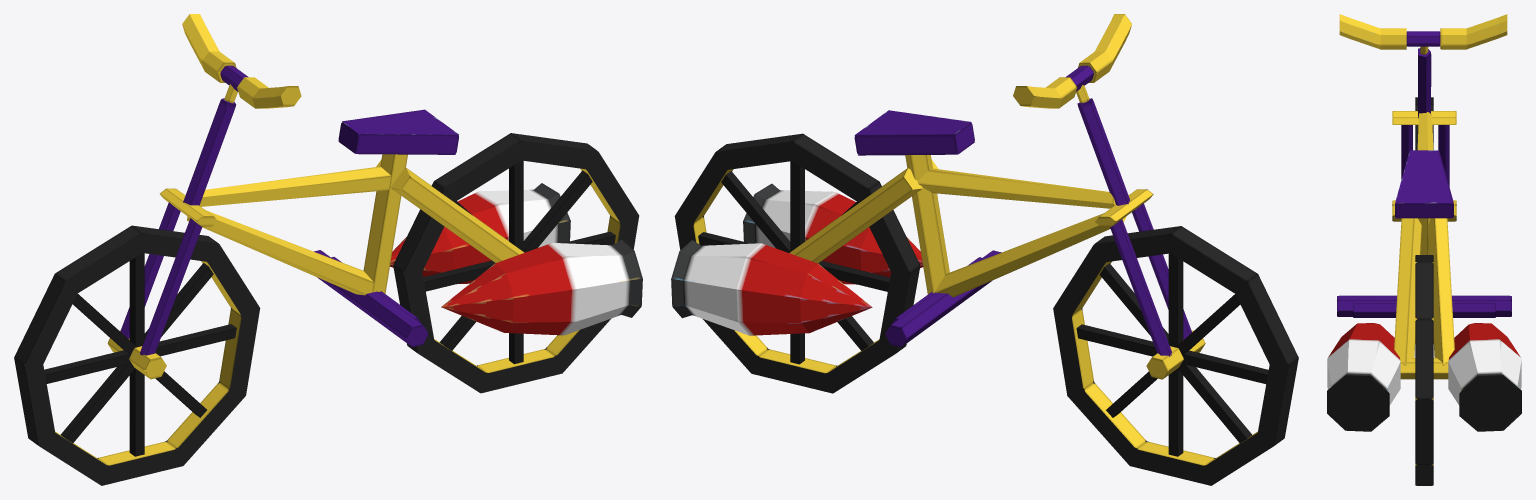
Rendered from cycol(1).fbx.
The picture shows the model from 3 angles, left to right: view 1: azimuth 30°, elevation 25°; view 2: azimuth 150°, elevation 25°; view 3: azimuth 270°, elevation 25°; orthographic projection. The views are drawn at different scales.
Parts seen in each view (by area): view 1: cylinder_2, cylinder, rocket2, group, front wheel, rocket, cylinder_6, cylinder_7, cylinder_4, cylinder_12, cylinder_5, cylinder_15 (+5 smaller); view 2: cylinder_2, cylinder, rocket, group, front wheel, rocket2, cylinder_6, cylinder_7, cylinder_5_1, cylinder_12, cylinder_5, cylinder_15 (+5 smaller); view 3: rocket, rocket2, cylinder, cylinder_12, group, cylinder_4, cylinder_5_1, cylinder_16, cylinder_15, cylinder_11, cylinder_10, cylinder_1 (+4 smaller).
Boxes of the visible parts, box(x1,y1,x2,y2) form: cylinder_2: box(14, 225, 260, 485); cylinder: box(393, 133, 639, 393); rocket2: box(441, 239, 642, 335); group: box(338, 109, 615, 364); front wheel: box(44, 253, 236, 456); rocket: box(390, 183, 570, 284); cylinder_6: box(199, 166, 390, 206); cylinder_7: box(187, 210, 373, 295); cylinder_4: box(391, 167, 524, 262); cylinder_12: box(182, 14, 301, 108); cylinder_5: box(363, 154, 407, 293); cylinder_15: box(314, 250, 428, 347); cylinder_2: box(1053, 226, 1298, 485); cylinder: box(674, 133, 920, 393); rocket: box(671, 240, 872, 335); group: box(698, 110, 974, 364); front wheel: box(1076, 253, 1268, 456); rocket2: box(743, 183, 923, 284); cylinder_6: box(917, 168, 1115, 208); cylinder_7: box(934, 213, 1126, 297); cylinder_5_1: box(789, 168, 922, 263); cylinder_12: box(1013, 14, 1131, 108); cylinder_5: box(905, 155, 949, 294); cylinder_15: box(885, 250, 1001, 347); rocket: box(1448, 323, 1521, 431); rocket2: box(1327, 323, 1400, 431); cylinder: box(1415, 255, 1433, 485); cylinder_12: box(1339, 14, 1507, 49); group: box(1395, 150, 1453, 218); cylinder_4: box(1394, 218, 1421, 365); cylinder_5_1: box(1427, 218, 1454, 365); cylinder_16: box(1353, 301, 1495, 317); cylinder_15: box(1337, 295, 1511, 316); cylinder_11: box(1418, 46, 1431, 118); cylinder_10: box(1392, 111, 1456, 124); cylinder_1: box(1400, 358, 1448, 379).
Size of the model in its own units: 343 by 212 by 110.
1 material, 1 textured.
